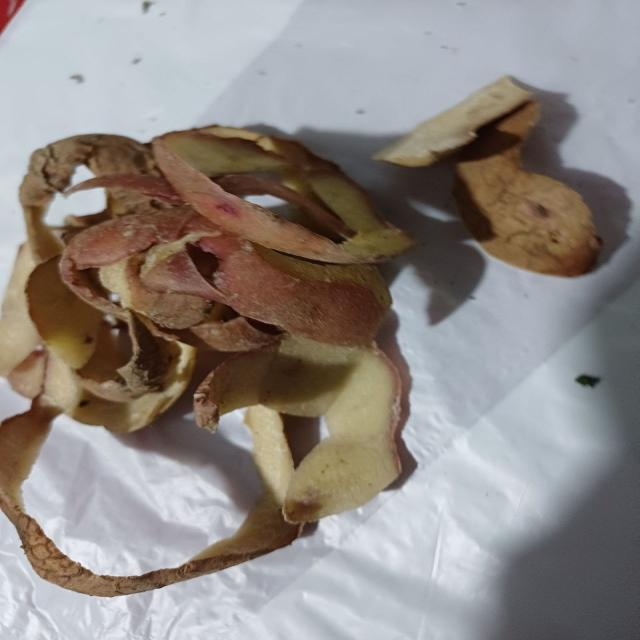organic: (0, 75, 602, 596)
